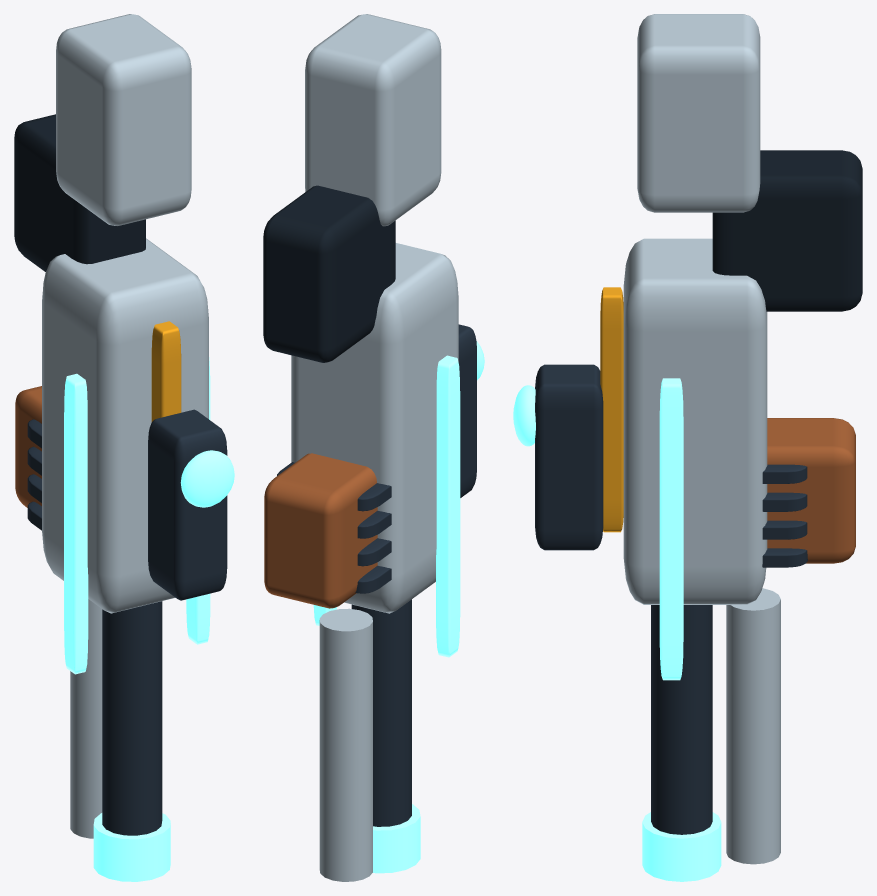
The model's file is shotgun-4.glb.
The picture shows the model from 3 angles, left to right: view 1: azimuth 30°, elevation 25°; view 2: azimuth 150°, elevation 25°; view 3: azimuth 270°, elevation 25°; orthographic projection.
Size of the model in its own units: 0.2491 by 1.43 by 0.5427.
